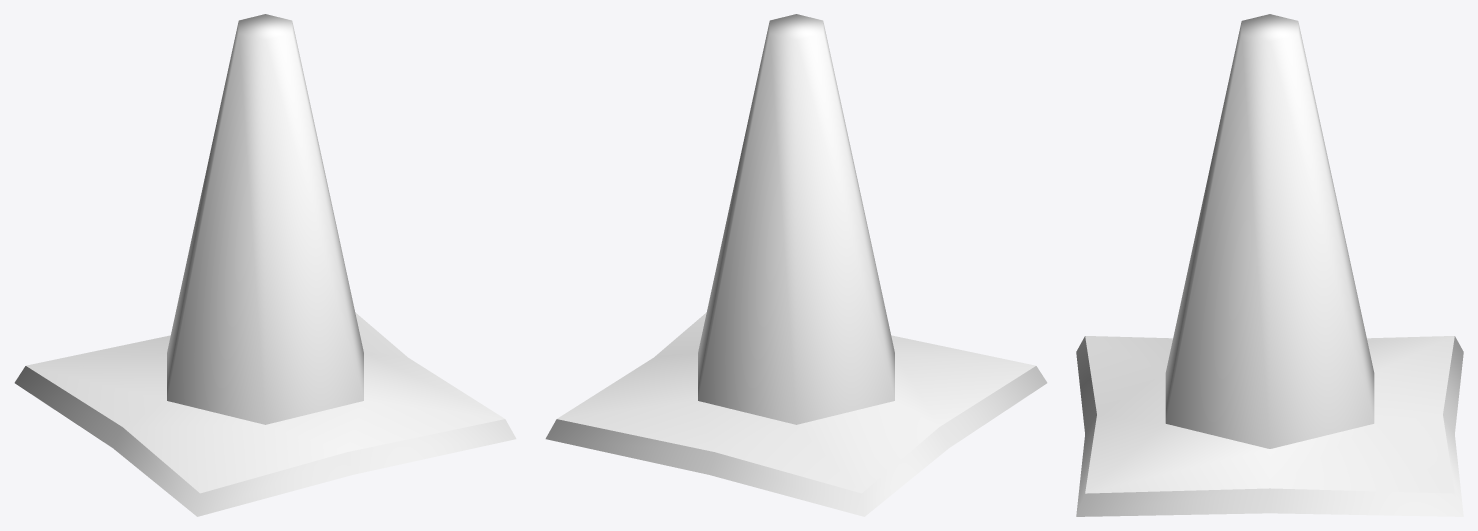
3 views of the same model, side by side, from view 1: azimuth 30°, elevation 25°; view 2: azimuth 150°, elevation 25°; view 3: azimuth 270°, elevation 25° (orthographic). The views are drawn at different scales.
Parts seen in each view (by area): view 1: cone_02; view 2: cone_02; view 3: cone_02.
Boxes of the visible parts, x1,y1,x2,y2 form: cone_02: (14, 14, 516, 516); cone_02: (545, 14, 1047, 516); cone_02: (1076, 14, 1463, 516).
Bounding box in the file's own units: 0.4447 × 0.5111 × 0.4415.
1 material, 1 textured.
